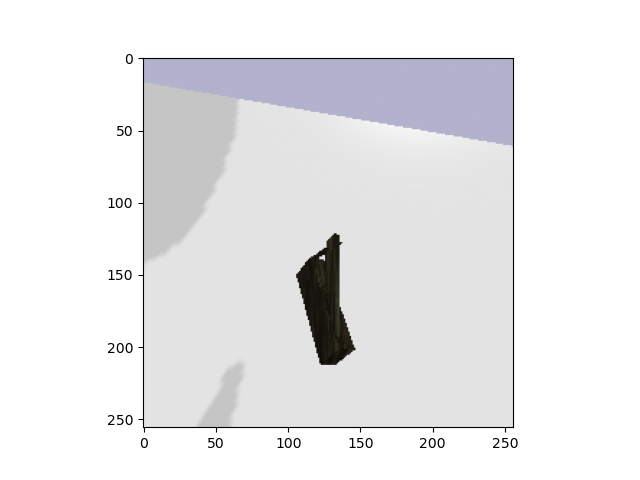v249b387_109: (281, 226, 375, 374)
